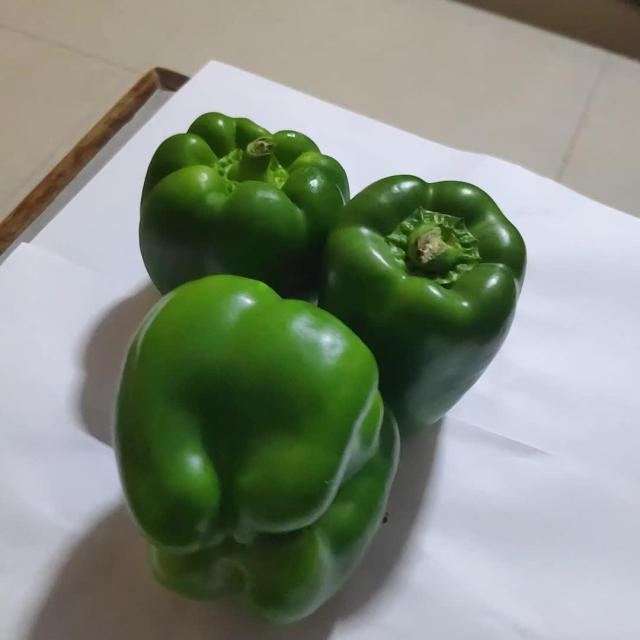Bell Pepper: (116, 276, 400, 624), (320, 175, 526, 425), (139, 113, 348, 302)
